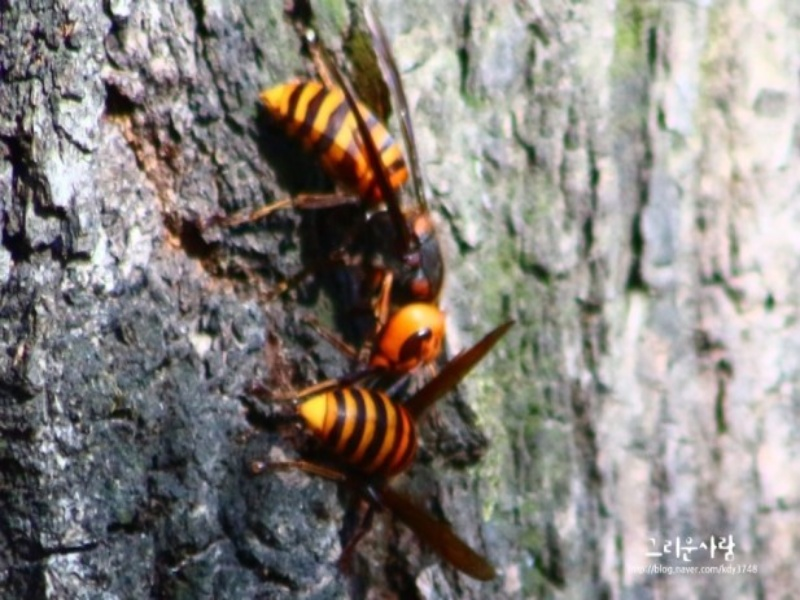asian_giant_hornet: (253, 68, 445, 375), (287, 380, 445, 483)
